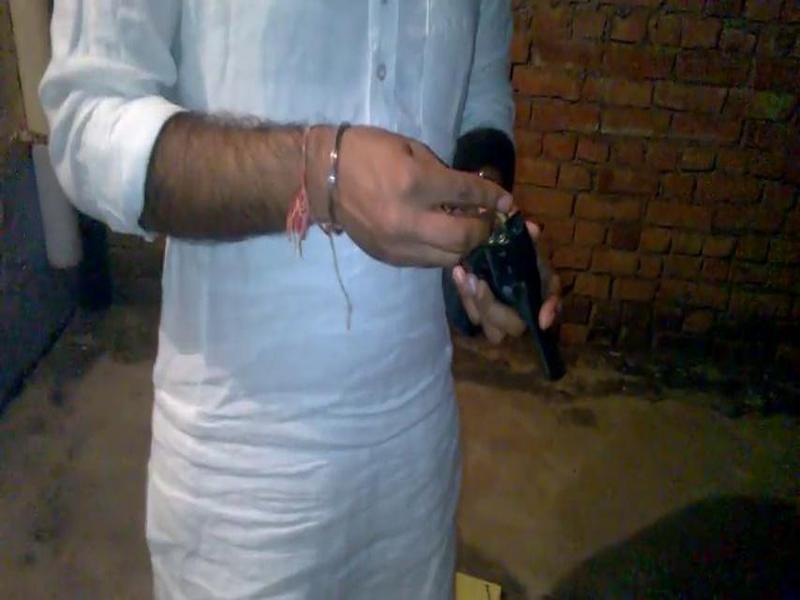Revolver: (420, 174, 575, 404)
